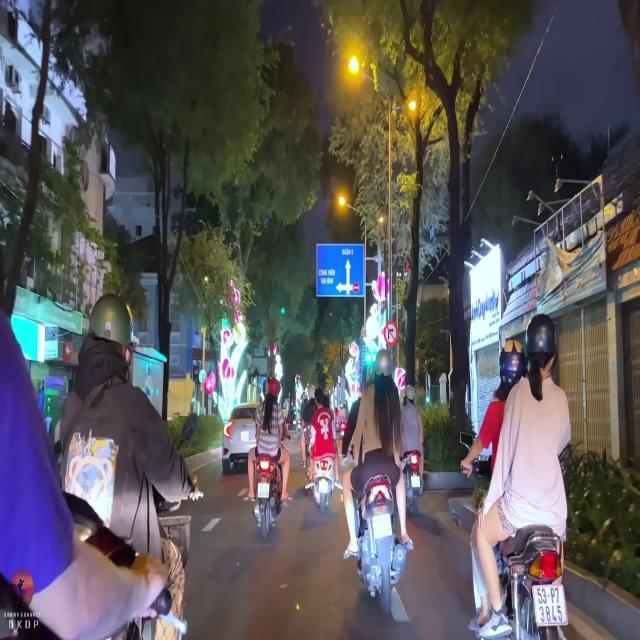bien_trang: (530, 583, 574, 631)
